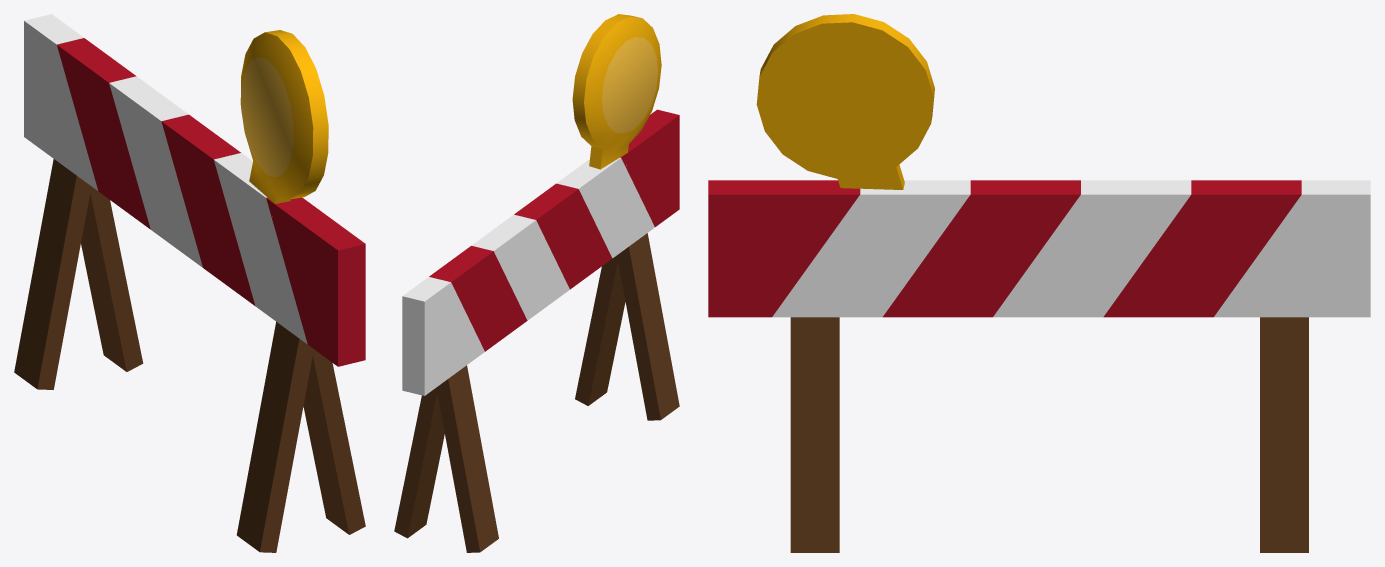
File: SM_Absperrung_02.fbx
3 renders of one model, left to right at view 1: azimuth 30°, elevation 25°; view 2: azimuth 150°, elevation 25°; view 3: azimuth 270°, elevation 25°, orthographic. The views are drawn at different scales.
Parts seen in each view (by area): view 1: Absperrung_02.001; view 2: Absperrung_02.001; view 3: Absperrung_02.001.
Boxes of the visible parts, box(x1,y1,x2,y2) form: Absperrung_02.001: box(14, 14, 365, 552); Absperrung_02.001: box(394, 14, 679, 552); Absperrung_02.001: box(708, 14, 1370, 552).
Bounding box in the file's own units: 38.97 × 171 × 200.
